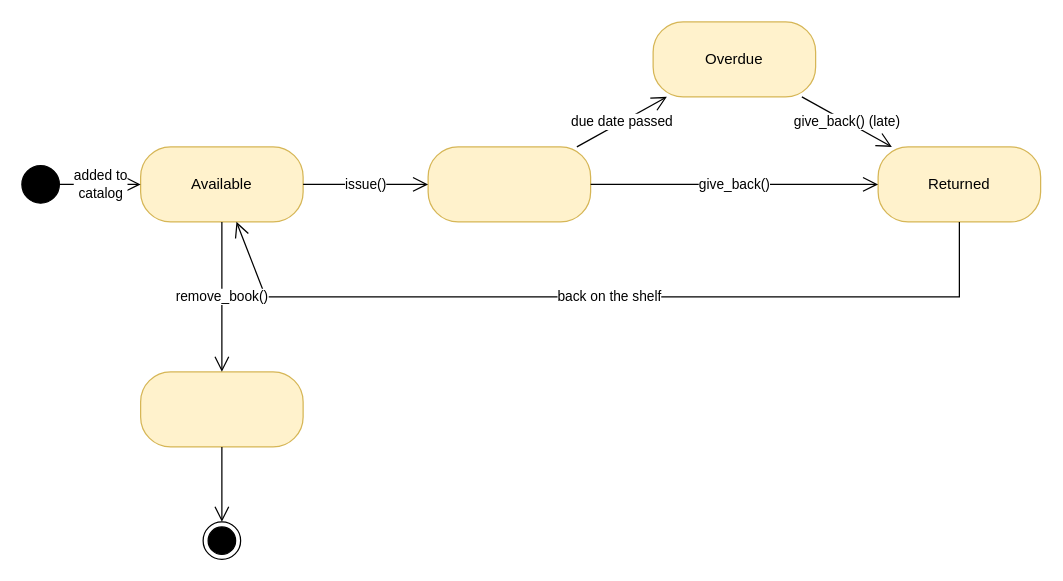
Some shapes in this 1063 by 581 pixel diagram are drawn without their labels. The shapes that lost their labels are listed below. From the top down, each one's centre as x and y in pixels, then its label:
At pixel 509 184: "Issued".
At pixel 221 409: "Removed".
